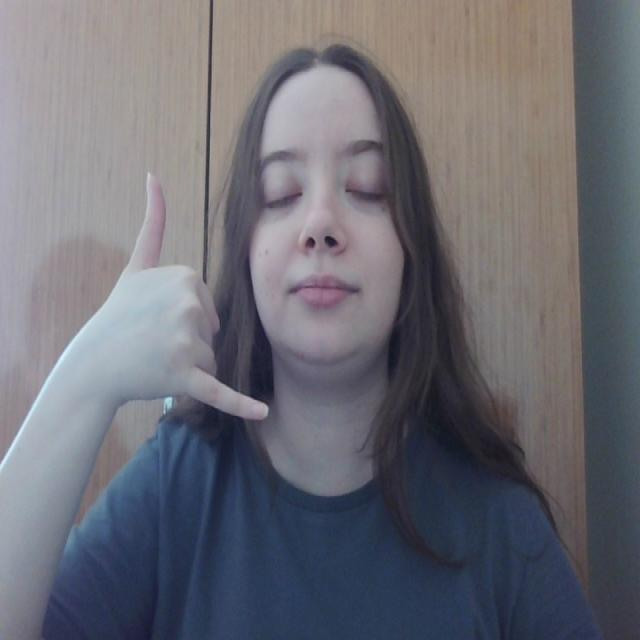Telefon: (132, 154, 272, 442)
